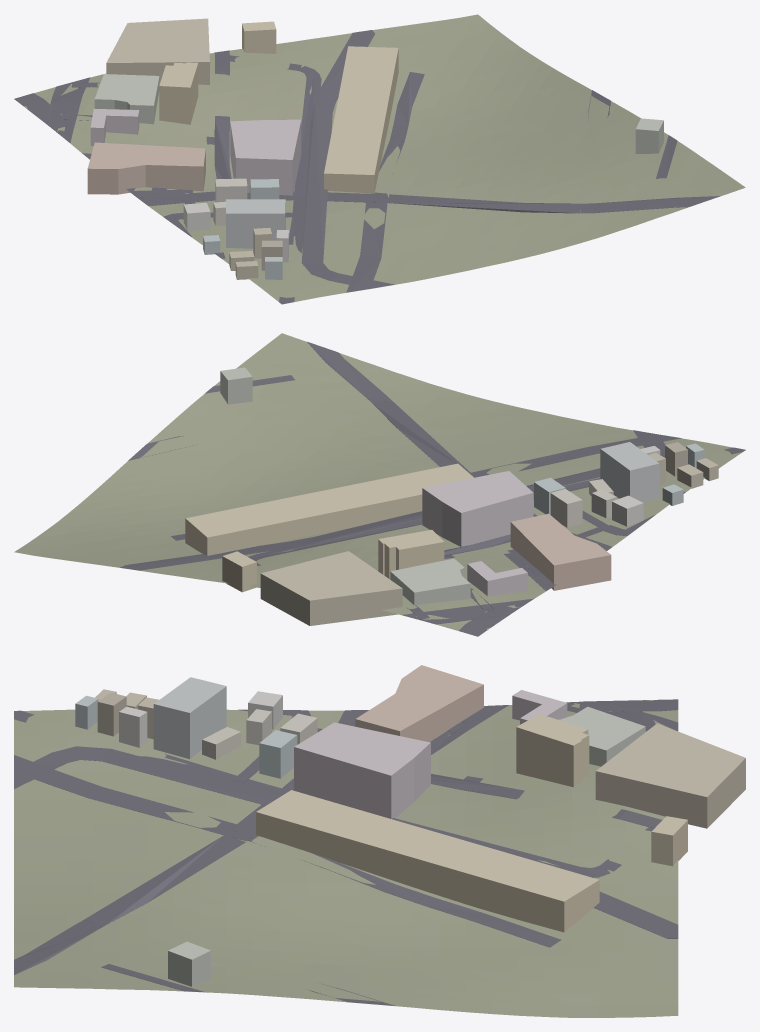
File: chunk_3_5.glb
3 views of the same model, one above another, from view 1: azimuth 30°, elevation 25°; view 2: azimuth 150°, elevation 25°; view 3: azimuth 270°, elevation 25° (orthographic). The views are drawn at different scales.
Parts seen in each view (by area): view 1: geometry_22, geometry_12, geometry_0, geometry_24, geometry_2, geometry_3, geometry_19, geometry_5, geometry_1, geometry_27, geometry_23, geometry_29 (+13 smaller); view 2: geometry_22, geometry_12, geometry_2, geometry_3, geometry_0, geometry_24, geometry_19, geometry_5, geometry_1, geometry_27, geometry_4, geometry_23 (+11 smaller); view 3: geometry_22, geometry_12, geometry_2, geometry_3, geometry_0, geometry_24, geometry_19, geometry_1, geometry_23, geometry_27, geometry_44, geometry_5 (+19 smaller).
Boxes of the visible parts, x1,y1,x2,y2 form: geometry_22: (24, 14, 745, 304); geometry_12: (324, 46, 398, 193); geometry_0: (87, 142, 205, 194); geometry_24: (301, 30, 394, 288); geometry_2: (106, 18, 209, 85); geometry_3: (230, 119, 301, 195); geometry_19: (226, 199, 285, 248); geometry_5: (94, 74, 159, 124); geometry_1: (159, 62, 198, 124); geometry_27: (387, 194, 581, 213); geometry_23: (346, 198, 387, 292); geometry_29: (294, 66, 321, 195); geometry_22: (14, 333, 745, 635); geometry_12: (185, 463, 473, 555); geometry_2: (260, 551, 402, 625); geometry_3: (422, 471, 533, 546); geometry_0: (510, 513, 611, 590); geometry_24: (120, 430, 664, 570); geometry_19: (600, 442, 659, 502); geometry_5: (390, 558, 470, 605); geometry_1: (378, 529, 444, 579); geometry_27: (372, 400, 470, 472); geometry_4: (467, 561, 527, 596); geometry_23: (471, 434, 681, 476); geometry_22: (14, 700, 678, 1017); geometry_12: (256, 790, 599, 932); geometry_2: (595, 723, 745, 828); geometry_3: (294, 722, 430, 819); geometry_0: (355, 665, 483, 742); geometry_24: (14, 746, 678, 938); geometry_19: (153, 677, 226, 759); geometry_1: (516, 714, 589, 787); geometry_23: (14, 755, 248, 837); geometry_27: (84, 835, 245, 925); geometry_44: (236, 829, 561, 947); geometry_5: (558, 706, 645, 766).
Size of the model in its own units: 266 by 32.17 by 276.
